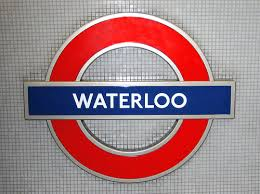London Underground: (26, 13, 235, 183)
